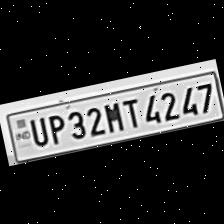2: (80, 102, 106, 138), (154, 86, 179, 123)
3: (62, 106, 87, 142)
4: (173, 82, 199, 119), (137, 90, 163, 126)
7: (192, 80, 216, 114)
M: (98, 98, 125, 134)
P: (43, 110, 67, 146)
T: (118, 94, 143, 130)
U: (23, 113, 49, 148)
